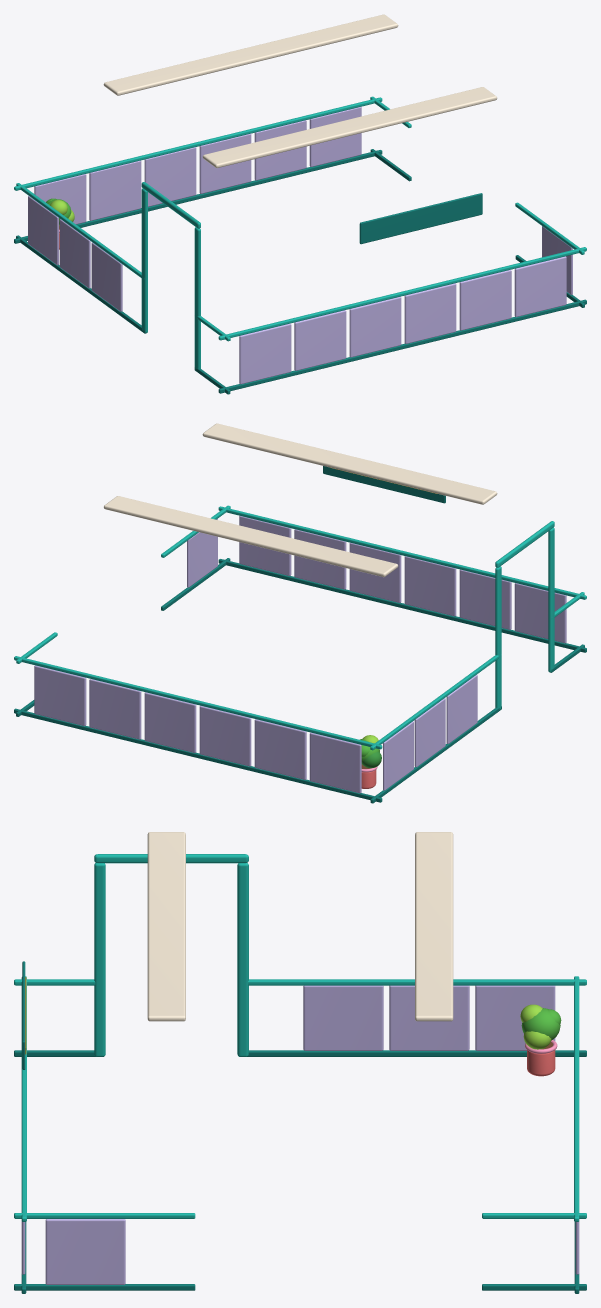
The model's file is ResearchDressing.fbx.
The picture shows the model from 3 angles, top to bottom: view 1: azimuth 30°, elevation 25°; view 2: azimuth 150°, elevation 25°; view 3: azimuth 270°, elevation 25°; orthographic projection. The views are drawn at different scales.
Parts seen in each view (by area): view 1: ResearchDressing mesh; view 2: ResearchDressing mesh; view 3: ResearchDressing mesh.
Boxes of the visible parts, x1,y1,x2,y2 form: ResearchDressing mesh: (14,14,586,394); ResearchDressing mesh: (14,423,586,803); ResearchDressing mesh: (14,832,586,1293).
Size of the model in its own units: 7.5 by 3.6 by 7.5.
